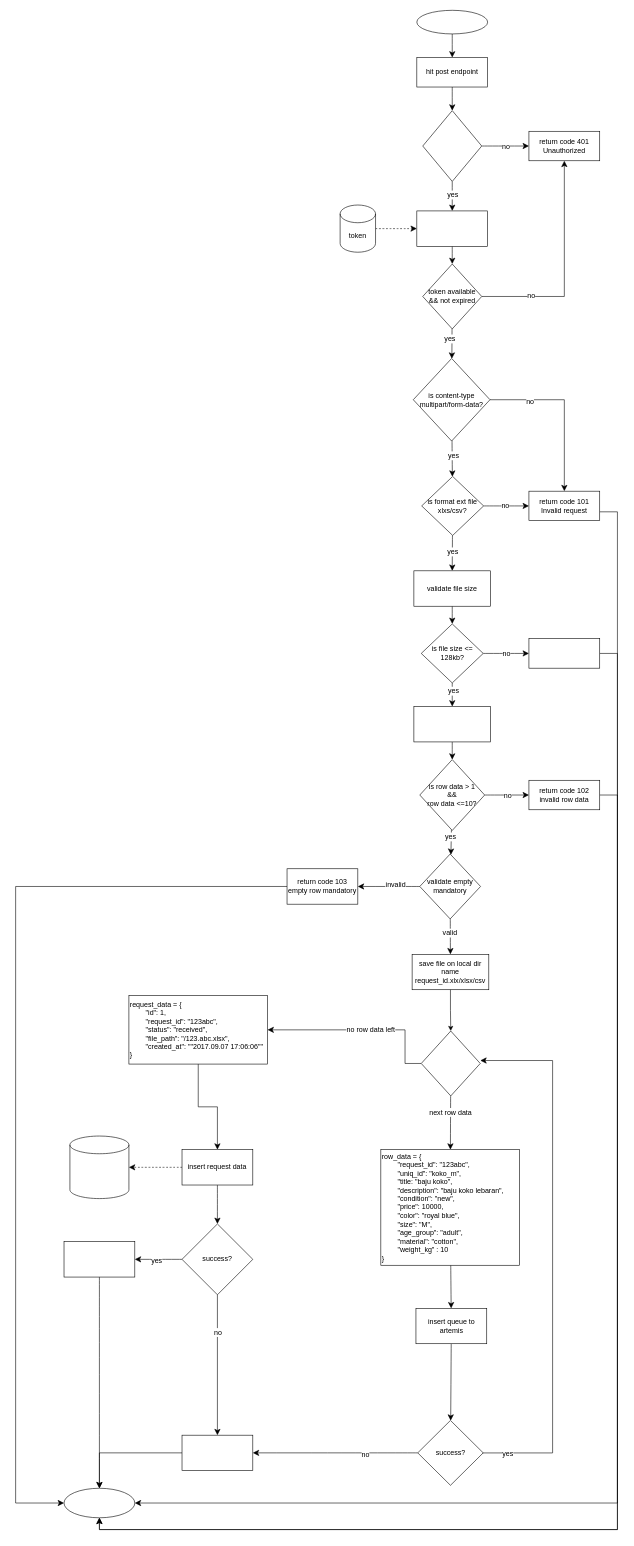
The diagram is 634 pixels wide and 1546 high, and some of its shapes have lost their labels. Here are the shapes that lost their labels. From the top down, the centre of each, then its label:
(452,22): start
(452,145): is header Authorize avail && bearer?
(452,228): get auth data by token
(564,653): return code 104 file size more than 128kb
(452,724): validate row data
(450,1063): foreach row data
(99,1167): request
(99,1259): return code 100 request received
(217,1453): return code 500 internal server error
(99,1503): stop
